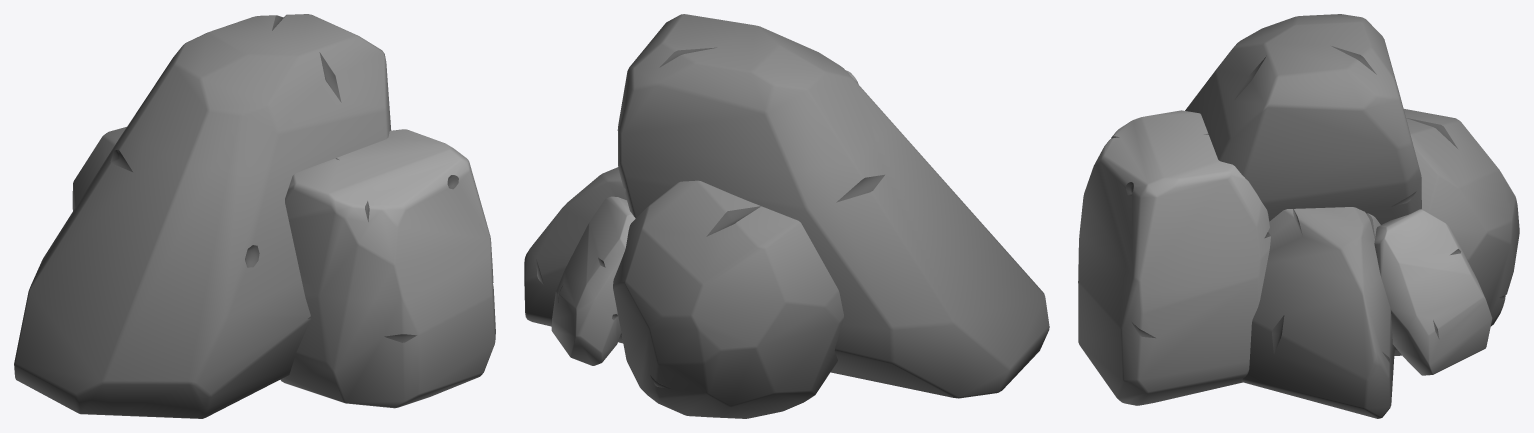
File: RockCliff01.fbx
The picture shows the model from 3 angles, left to right: view 1: azimuth 30°, elevation 25°; view 2: azimuth 150°, elevation 25°; view 3: azimuth 270°, elevation 25°; orthographic projection. The views are drawn at different scales.
Parts seen in each view (by area): view 1: LOD0; view 2: LOD0; view 3: LOD0.
Boxes of the visible parts, bbox=[...] form: LOD0: bbox=[14, 14, 495, 418]; LOD0: bbox=[524, 14, 1049, 418]; LOD0: bbox=[1078, 14, 1519, 418].
Size of what is drawn, in the model's own units: 775 by 658 by 529.
